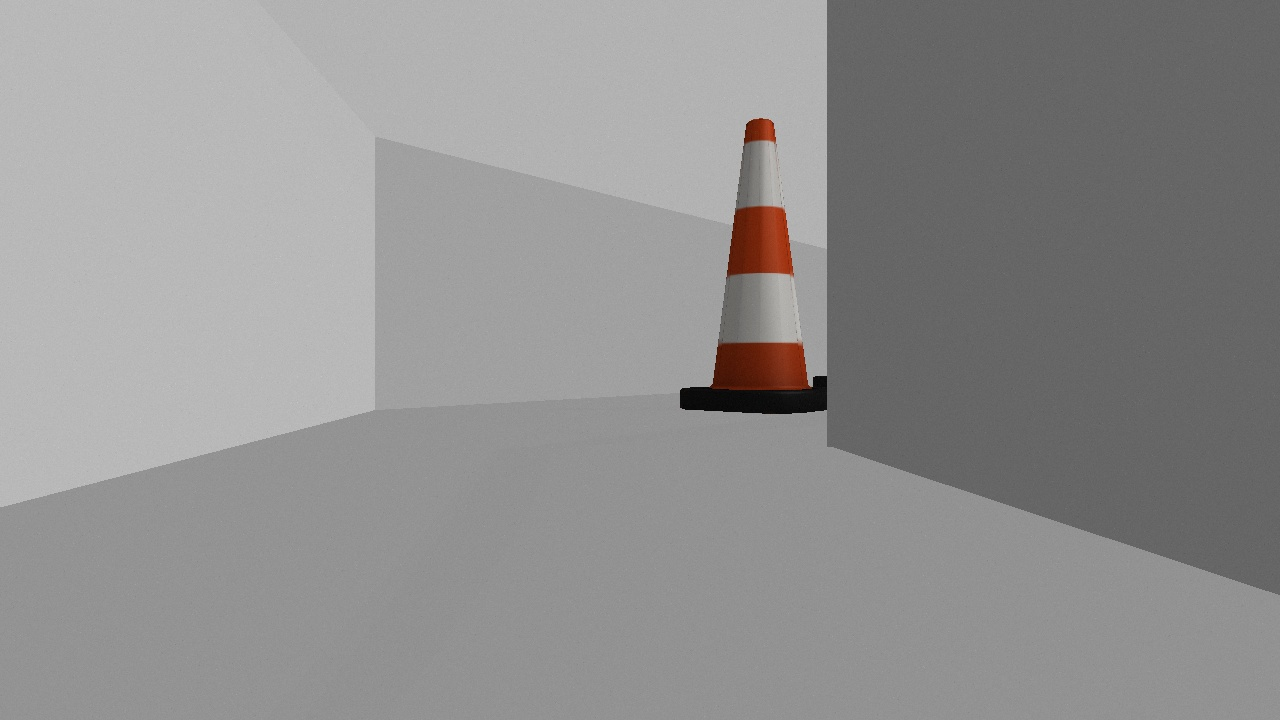barricade: (678, 117, 827, 415)
